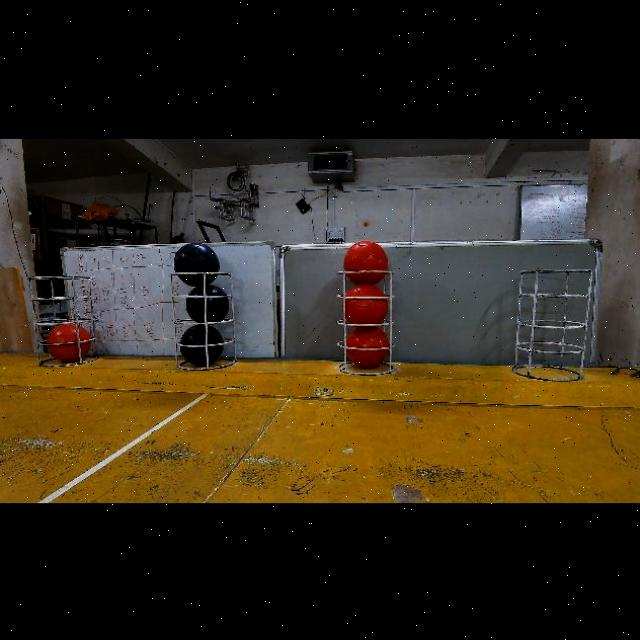P: (171, 243, 218, 287), (179, 324, 223, 367), (185, 284, 230, 323)
R: (343, 283, 390, 326), (344, 240, 388, 284), (347, 327, 390, 369), (44, 324, 90, 363)
S: (513, 265, 595, 375), (336, 271, 402, 375), (28, 271, 96, 369), (173, 271, 235, 375)
